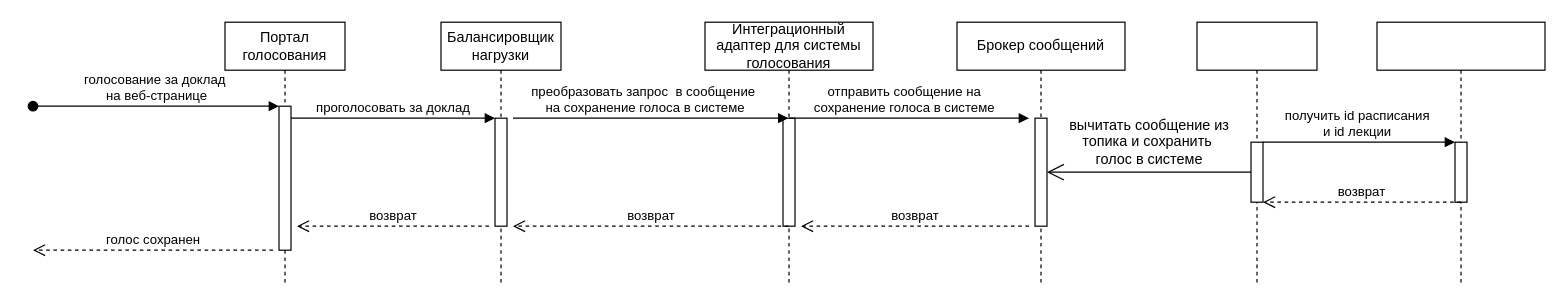
Some shapes in this 1566 by 307 pixel diagram are drawn without their labels. Each missing label, with the centre of its shape:
Система голосования: the point at 1256,153
Система расписаний: the point at 1460,153
